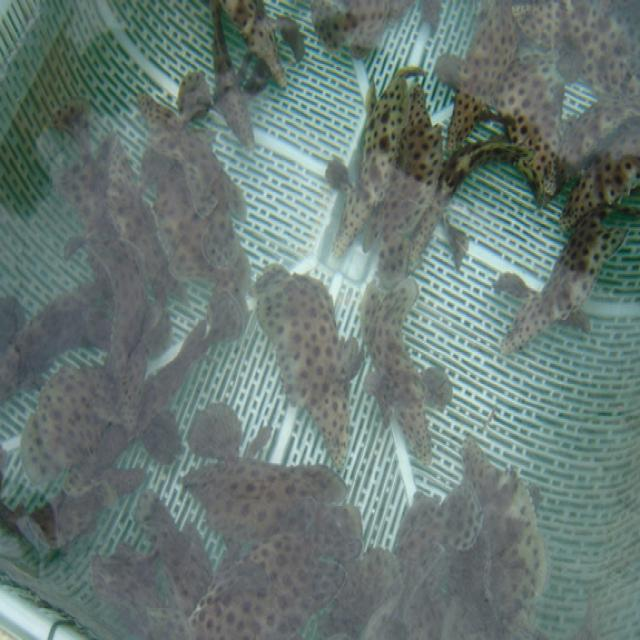grouper: (250, 261, 367, 484), (493, 206, 632, 366), (185, 518, 361, 640), (324, 63, 428, 260), (362, 277, 450, 473), (365, 82, 439, 245), (69, 233, 144, 373), (206, 1, 258, 170)
